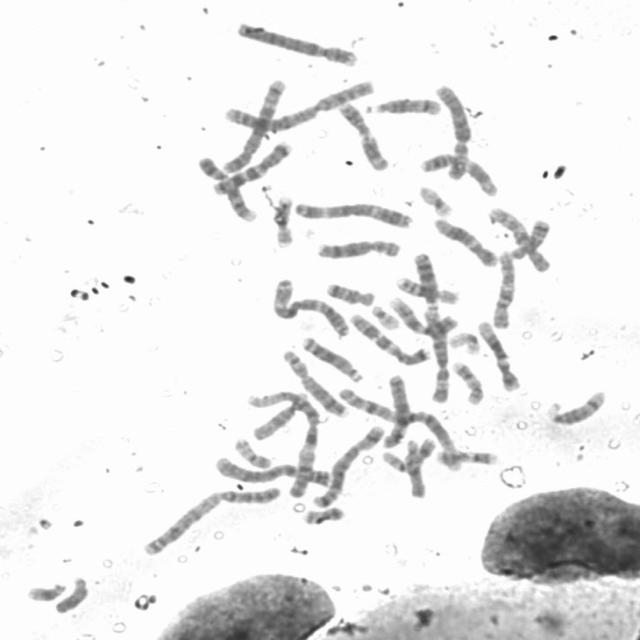A1: (334, 382, 466, 472), (244, 387, 320, 499)
A2: (137, 481, 284, 558), (221, 75, 378, 134)
A3: (266, 273, 352, 339), (290, 196, 416, 230)
B4: (232, 17, 361, 68), (210, 452, 335, 488)
B5: (218, 73, 290, 174), (308, 420, 388, 510)
C10: (484, 202, 554, 274), (488, 248, 518, 330)
C11: (334, 98, 393, 171), (416, 148, 500, 198)
C12: (429, 213, 502, 268), (474, 317, 524, 392)
C6: (430, 79, 474, 182), (419, 304, 453, 404)
C7: (344, 308, 432, 367), (206, 137, 294, 196)
C8: (278, 347, 352, 419), (313, 235, 403, 261)
C9: (193, 152, 259, 223), (386, 293, 460, 337)
D13: (298, 332, 366, 383), (410, 249, 441, 311)
D14: (544, 386, 608, 426), (362, 93, 445, 117)
D15: (248, 389, 310, 442), (402, 435, 429, 499)
E16: (392, 272, 461, 306), (268, 192, 296, 248)
E17: (449, 357, 486, 407), (431, 445, 500, 468)
E18: (504, 215, 552, 260), (322, 278, 377, 307)
F19: (415, 182, 456, 218), (446, 327, 482, 356)
F20: (230, 434, 274, 469), (299, 502, 347, 526)
G21: (22, 577, 68, 603), (415, 439, 439, 463)
G22: (367, 301, 402, 331), (379, 447, 411, 473)
X: (378, 370, 413, 450)
Y: (51, 573, 90, 615)
